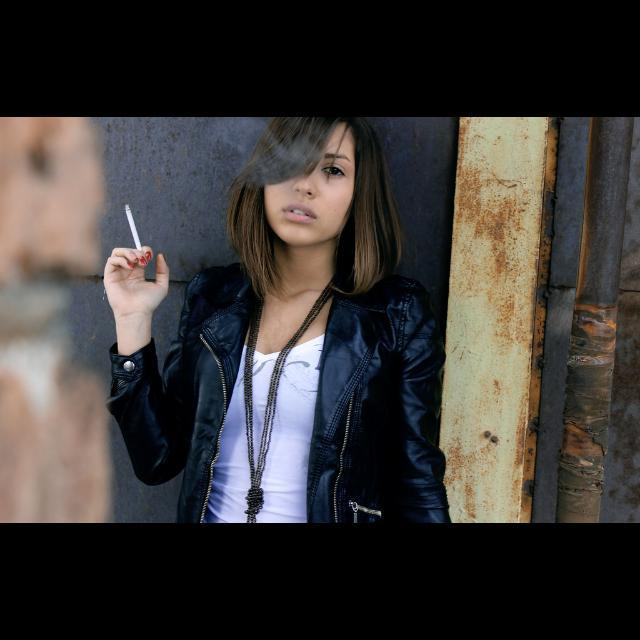rokok: (121, 202, 147, 252)
